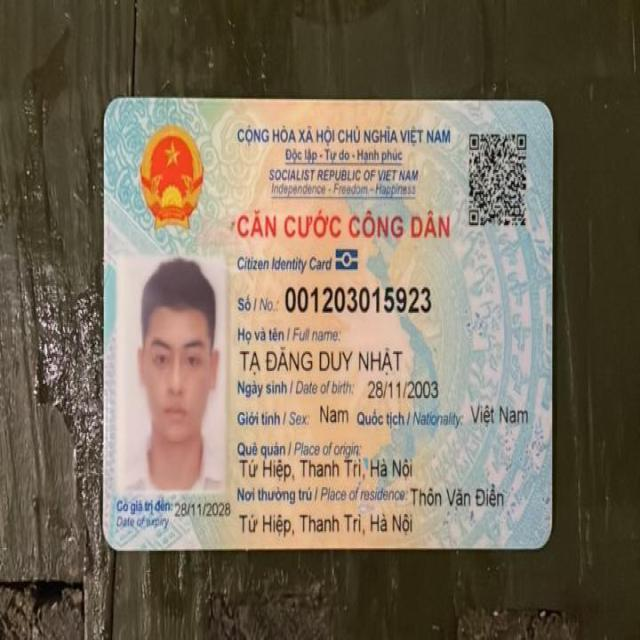bottom_left: (96, 520, 132, 558)
bottom_right: (522, 524, 560, 564)
image_person: (118, 256, 228, 498)
top_left: (88, 86, 136, 126)
top_right: (527, 88, 565, 130)
